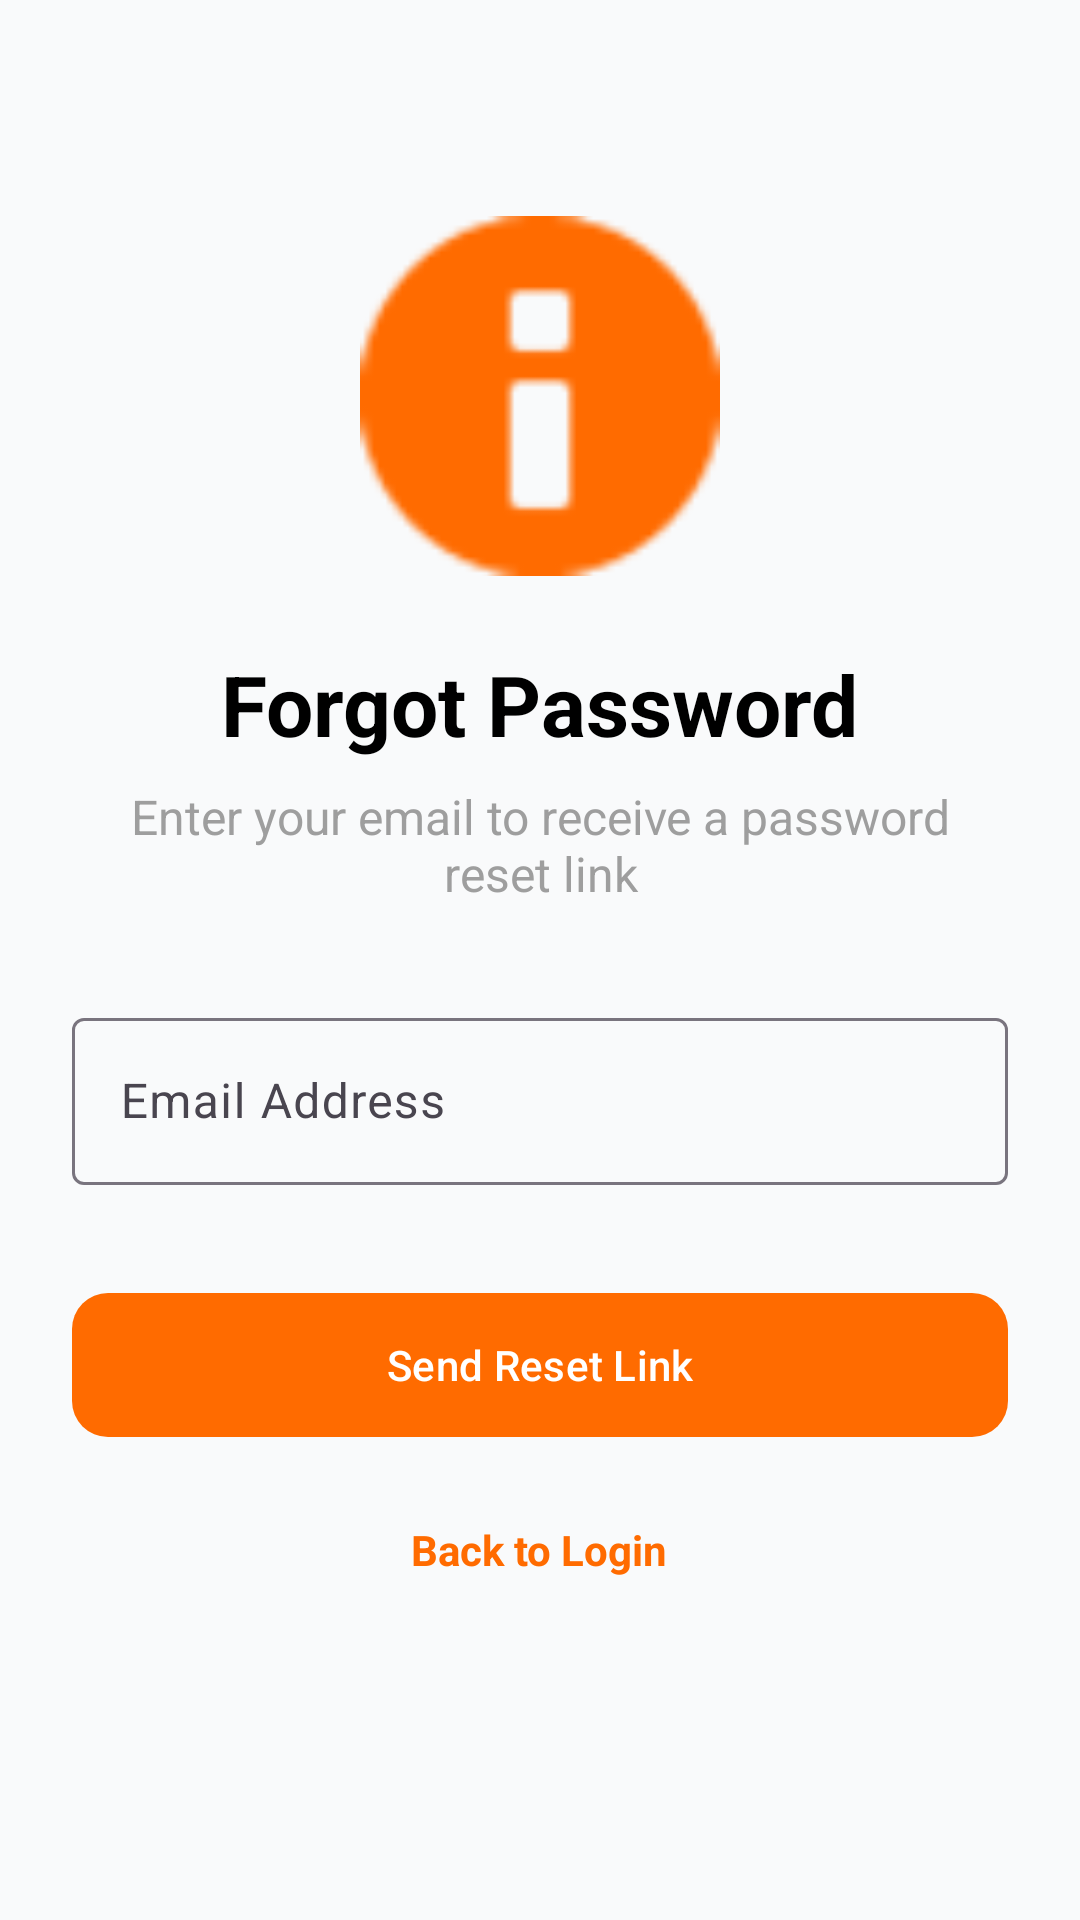

Icon bounding boxes for this 1080w x 1920h phone screenshot, format detection(x1, y1, x2, y2):
info: detection(360, 216, 720, 576)
